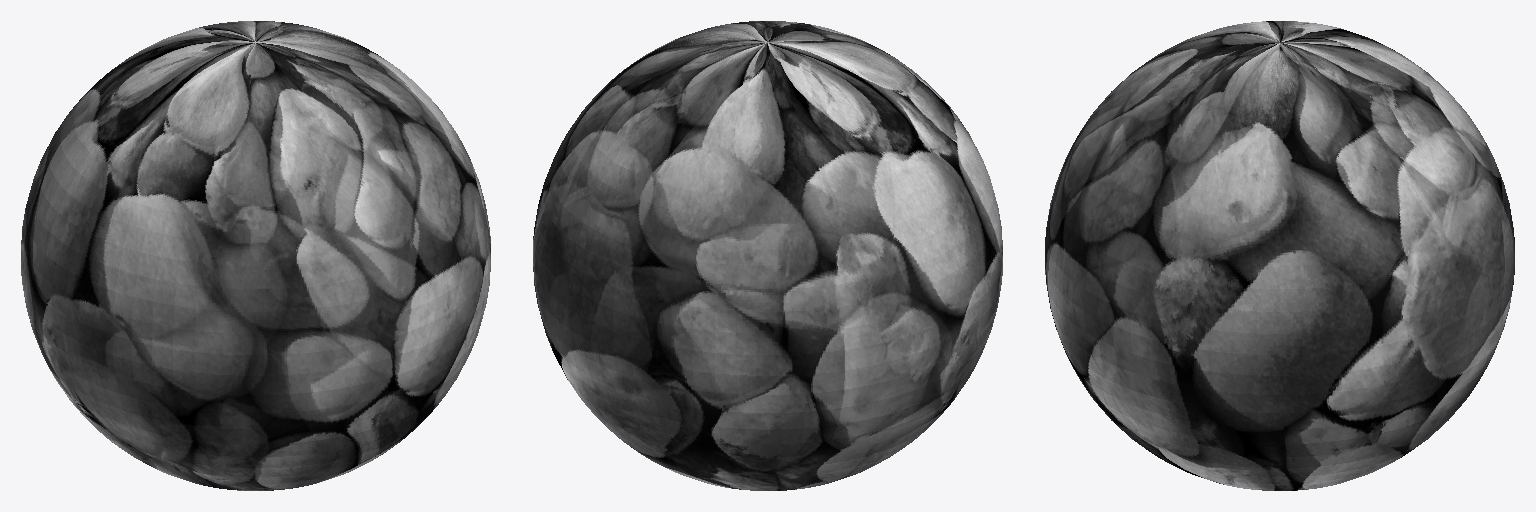
3 renders of one model, left to right at view 1: azimuth 30°, elevation 25°; view 2: azimuth 150°, elevation 25°; view 3: azimuth 270°, elevation 25°, orthographic.
Parts seen in each view (by area): view 1: sphere; view 2: sphere; view 3: sphere.
Boxes of the visible parts, <box> form: sphere: <box>21,21,490,490</box>; sphere: <box>533,21,1002,490</box>; sphere: <box>1045,21,1514,490</box>.
Size of the model in its own units: 2 by 2 by 2.
Materials: 1 (1 with a texture image).